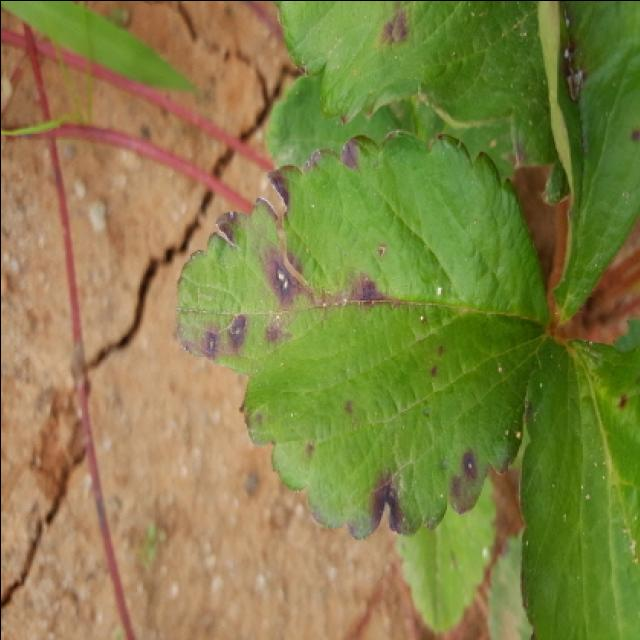Leaf Spot: (171, 128, 549, 539), (269, 2, 567, 206), (517, 335, 638, 640), (536, 2, 638, 328)
